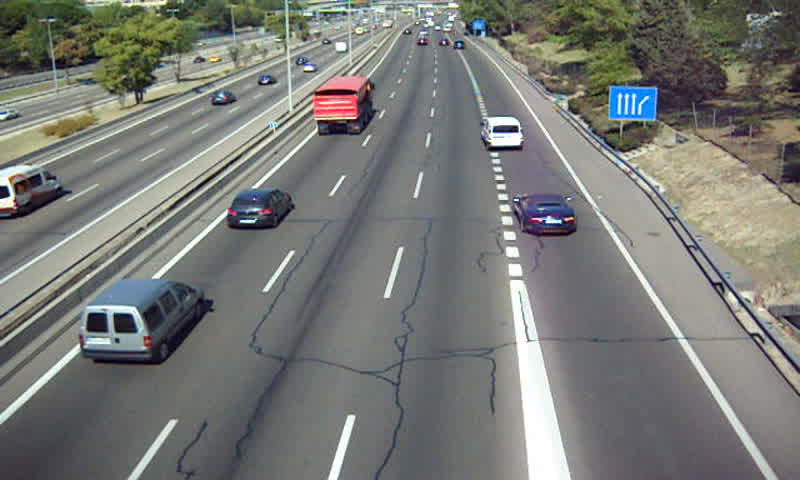car: (226, 188, 292, 230), (515, 194, 578, 236)
truck: (312, 77, 374, 136)
van: (79, 278, 202, 364), (480, 117, 524, 150)
